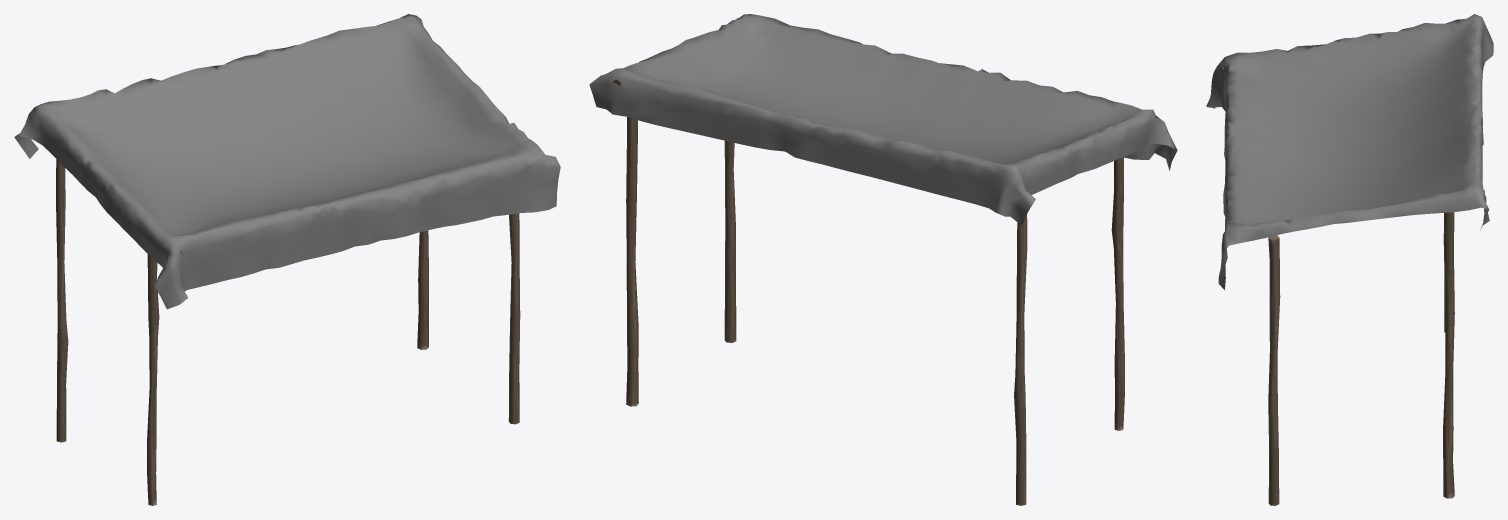
File: SM_marketstand_01.fbx
The picture shows the model from 3 angles, left to right: view 1: azimuth 30°, elevation 25°; view 2: azimuth 150°, elevation 25°; view 3: azimuth 270°, elevation 25°; orthographic projection. The views are drawn at different scales.
Visible parts, largest first — view 1: Object32558; view 2: Object32558; view 3: Object32558.
Boxes of the visible parts, <box> form: Object32558: <box>14,14,560,505</box>; Object32558: <box>589,14,1177,505</box>; Object32558: <box>1206,14,1493,505</box>.
Bounding box in the file's own units: 183 × 141 × 116.
